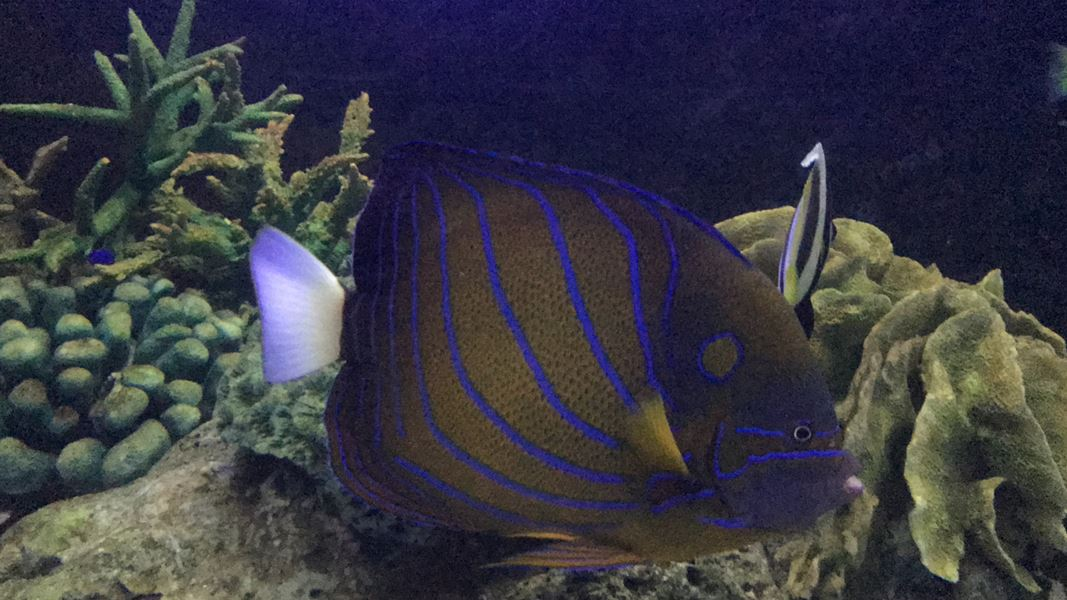Blue ring angelfish: (208, 131, 884, 596)
